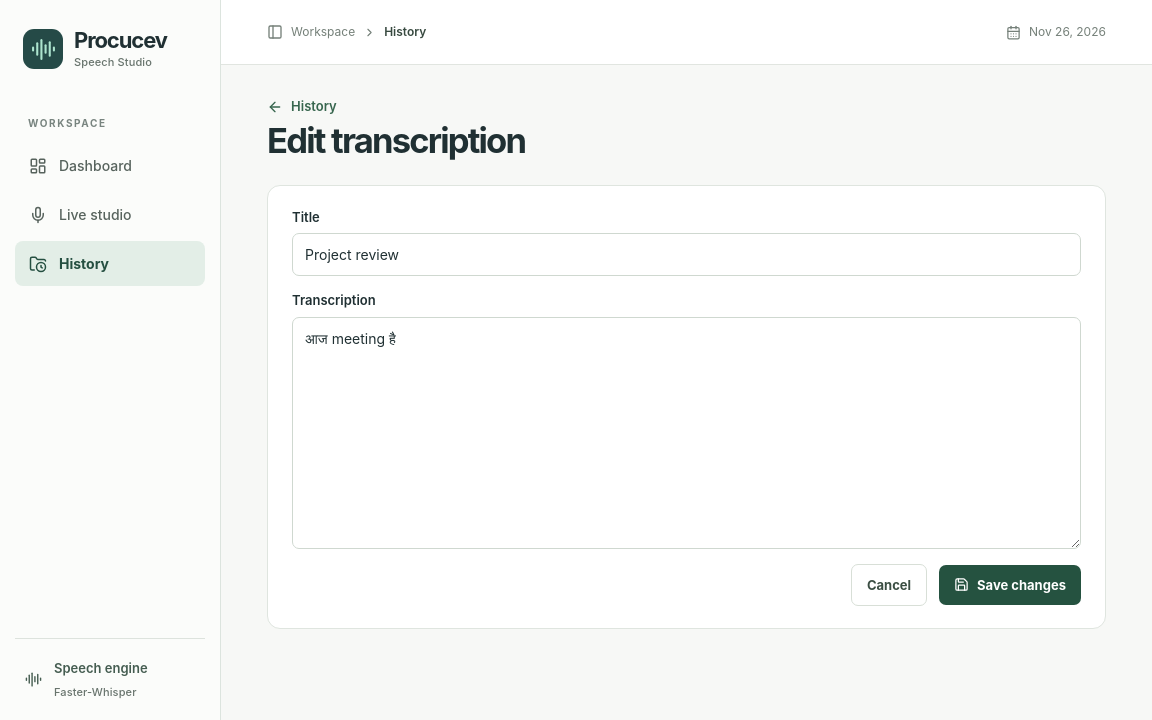
Test case: speech studio › keeps the original content when editing is canceled
The image size is (1152, 720).
Replace the text in the field labelled "Title" with "Discard me": [686, 255] box x1=292 y1=233 x2=1081 y2=276
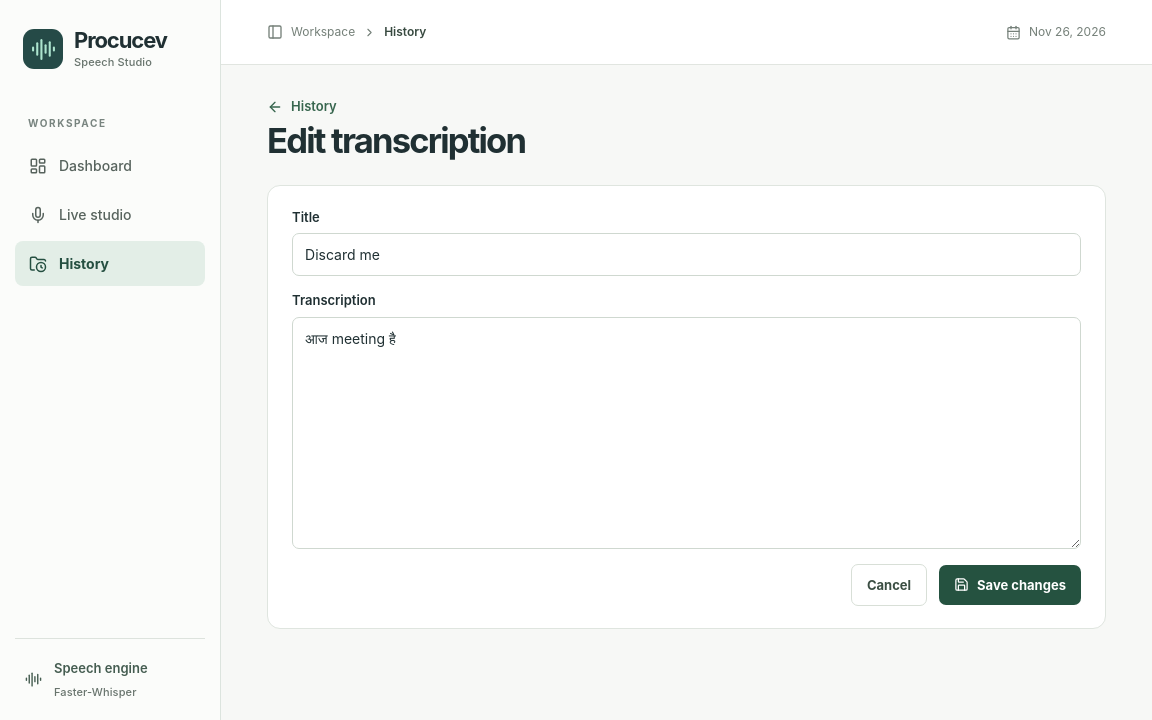
Click the link "Cancel": [889, 585] box x1=851 y1=564 x2=927 y2=606
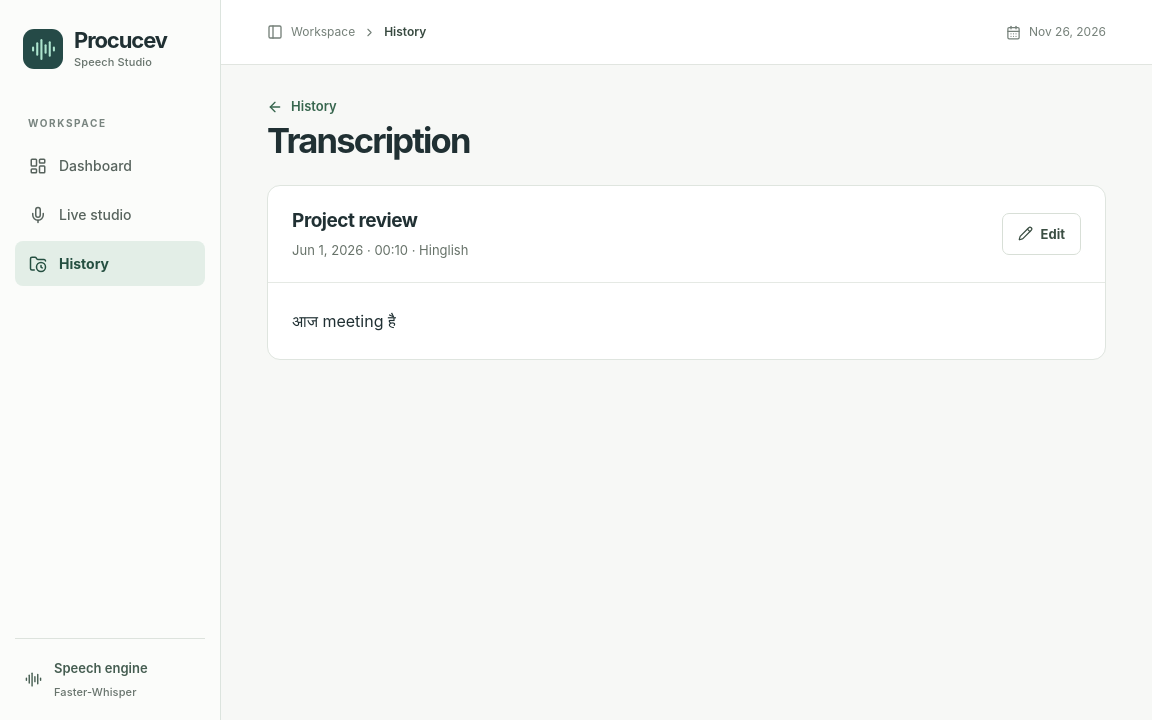
Expected: the heading "Project review" is shown, x1=292 y1=209 x2=417 y2=232
